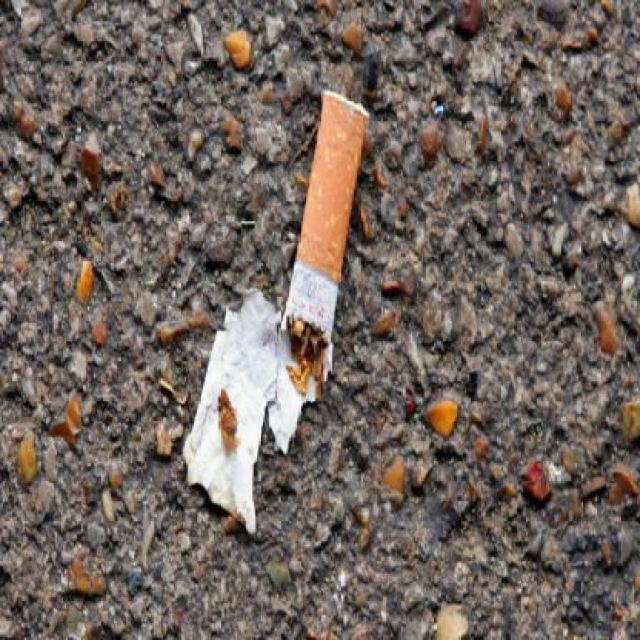cigarette: (261, 108, 382, 370)
